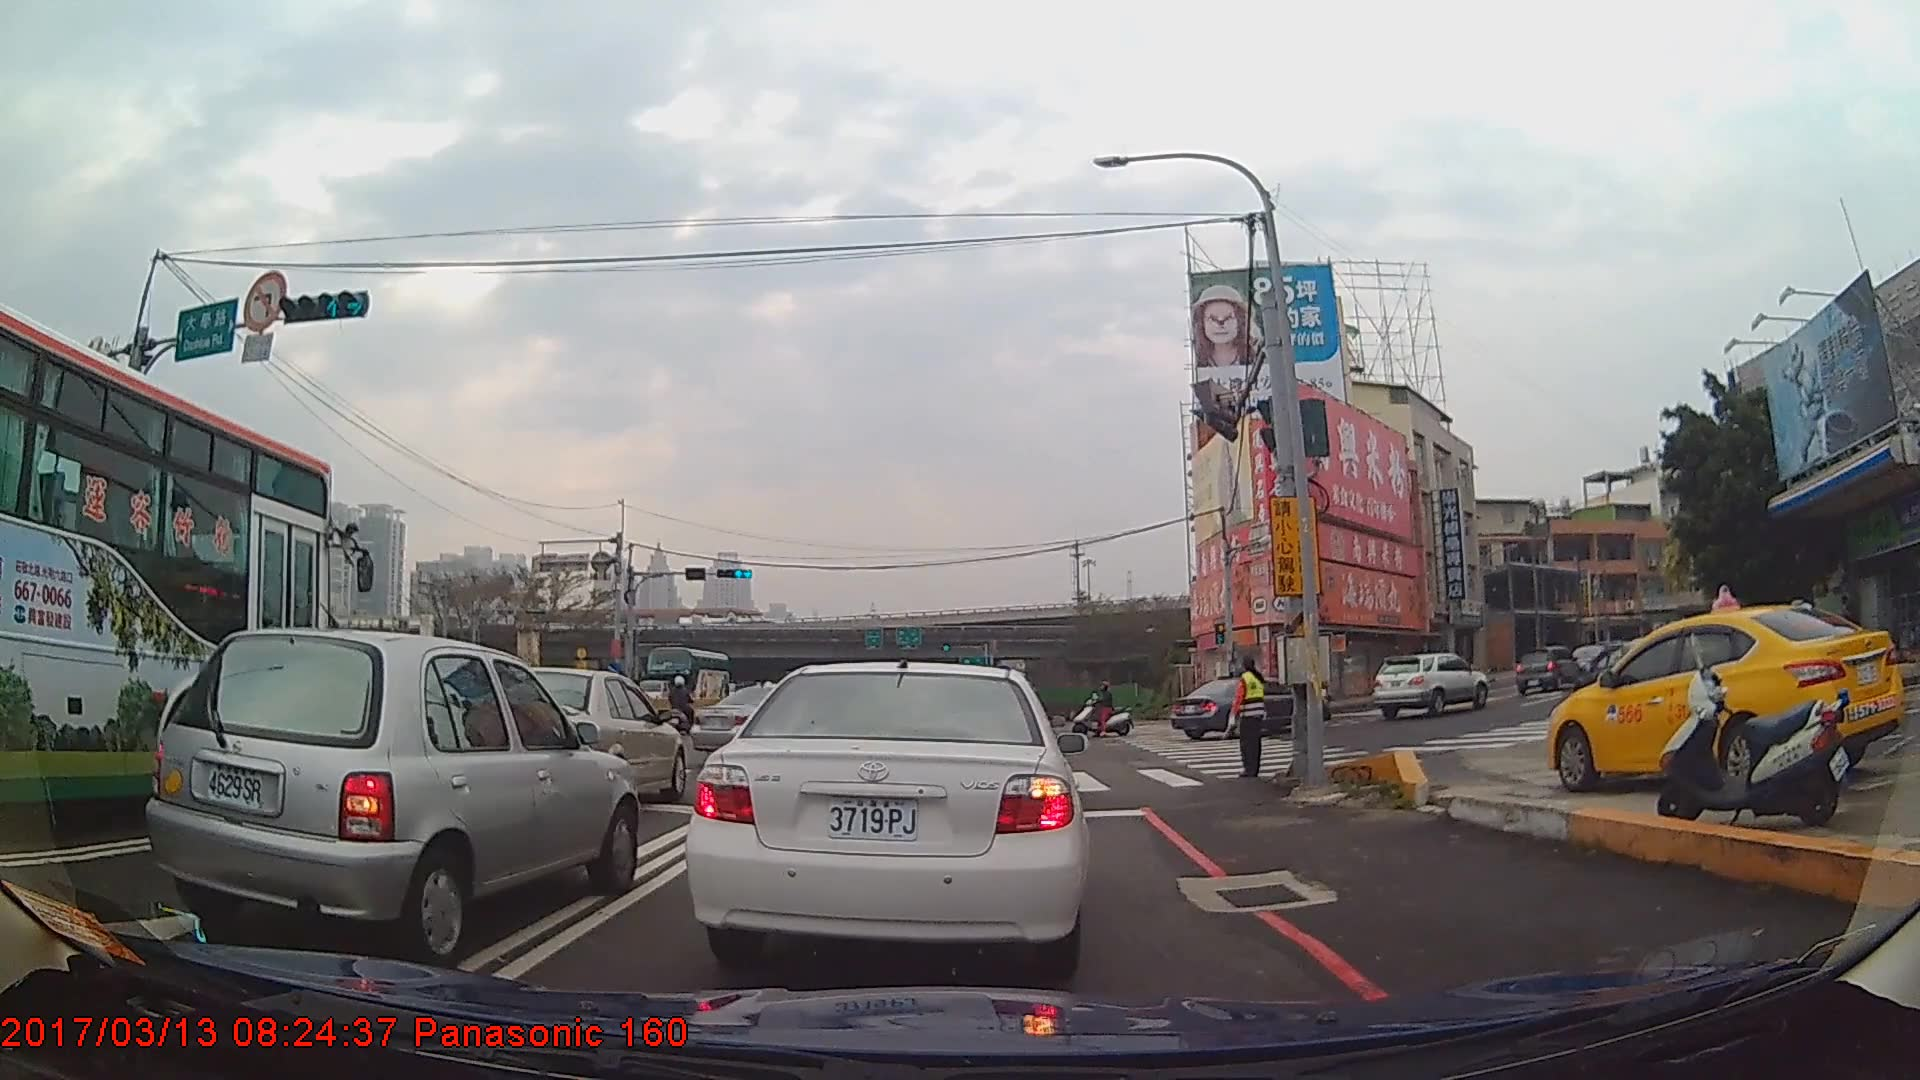pedestrian: (1216, 657, 1269, 776)
rider: (1074, 681, 1135, 740), (667, 677, 695, 741)
vehicle: (0, 297, 327, 841), (142, 627, 641, 965), (686, 655, 1087, 976), (1545, 603, 1902, 793), (465, 664, 687, 818), (1169, 674, 1324, 741), (1375, 651, 1487, 718), (645, 644, 729, 705), (1512, 647, 1581, 694)
